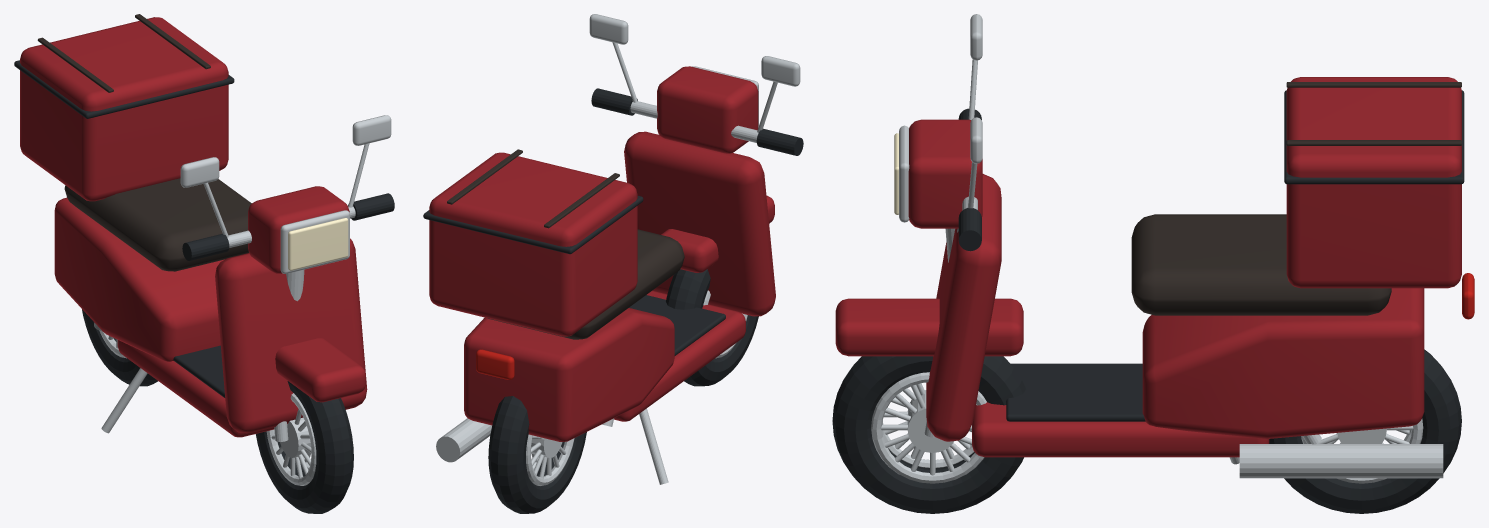
File: mila-scooter.glb
3 renders of one model, left to right at view 1: azimuth 30°, elevation 25°; view 2: azimuth 150°, elevation 25°; view 3: azimuth 270°, elevation 25°, orthographic. The views are drawn at different scales.
Visible parts, largest first — view 1: Delivery box, Front leg shield, Rear body, Black saddle, WheelFront_tire, Front mudguard, Headlamp housing, Step through floor, Headlamp lens, Box lid seam, Rubber footboard, WheelRear_tire (+10 smaller); view 2: Delivery box, Rear body, Front leg shield, Headlamp housing, WheelRear_tire, Step through floor, Black saddle, WheelFront_tire, Rubber footboard, Front mudguard, Exhaust, Box lid seam (+10 smaller); view 3: Rear body, Delivery box, Black saddle, WheelFront_tire, Front leg shield, Step through floor, Front mudguard, Rubber footboard, Exhaust, WheelRear_tire, Headlamp housing, Torus.002 (+6 smaller).
Boxes of the visible parts, left/top/right/bottom form: Delivery box: left=20, top=17, right=228, bottom=201; Front leg shield: left=215, top=238, right=367, bottom=433; Rear body: left=54, top=197, right=224, bottom=361; Black saddle: left=64, top=178, right=251, bottom=271; WheelFront_tire: left=255, top=381, right=353, bottom=513; Front mudguard: left=275, top=338, right=365, bottom=402; Headlamp housing: left=248, top=186, right=349, bottom=273; Step through floor: left=117, top=340, right=274, bottom=437; Headlamp lens: left=288, top=218, right=348, bottom=270; Box lid seam: left=14, top=60, right=234, bottom=118; Rubber footboard: left=173, top=345, right=225, bottom=397; WheelRear_tire: left=82, top=309, right=157, bottom=386; Delivery box: left=429, top=152, right=637, bottom=336; Rear body: left=464, top=308, right=674, bottom=441; Front leg shield: left=624, top=131, right=775, bottom=316; Headlamp housing: left=657, top=66, right=758, bottom=153; WheelRear_tire: left=488, top=396, right=586, bottom=513; Step through floor: left=614, top=290, right=745, bottom=421; Black saddle: left=487, top=229, right=684, bottom=339; WheelFront_tire: left=666, top=269, right=758, bottom=386; Rubber footboard: left=629, top=295, right=725, bottom=355; Front mudguard: left=661, top=195, right=774, bottom=272; Exhaust: left=436, top=418, right=491, bottom=462; Box lid seam: left=423, top=195, right=643, bottom=254; Rear body: left=1142, top=288, right=1424, bottom=438; Delivery box: left=1286, top=77, right=1461, bottom=288; Black saddle: left=1131, top=214, right=1391, bottom=315; WheelFront_tire: left=832, top=356, right=1025, bottom=513; Front leg shield: left=926, top=174, right=1001, bottom=441; Step through floor: left=972, top=402, right=1269, bottom=457; Front mudguard: left=835, top=298, right=1023, bottom=356; Rubber footboard: left=1006, top=363, right=1145, bottom=421; Exhaust: left=1239, top=444, right=1443, bottom=478; WheelRear_tire: left=1269, top=349, right=1461, bottom=513; Headlamp housing: left=908, top=119, right=982, bottom=228; Torus.002: left=871, top=372, right=986, bottom=483.
Bounding box in the file's own units: 0.95 × 1.54 × 2.05.
